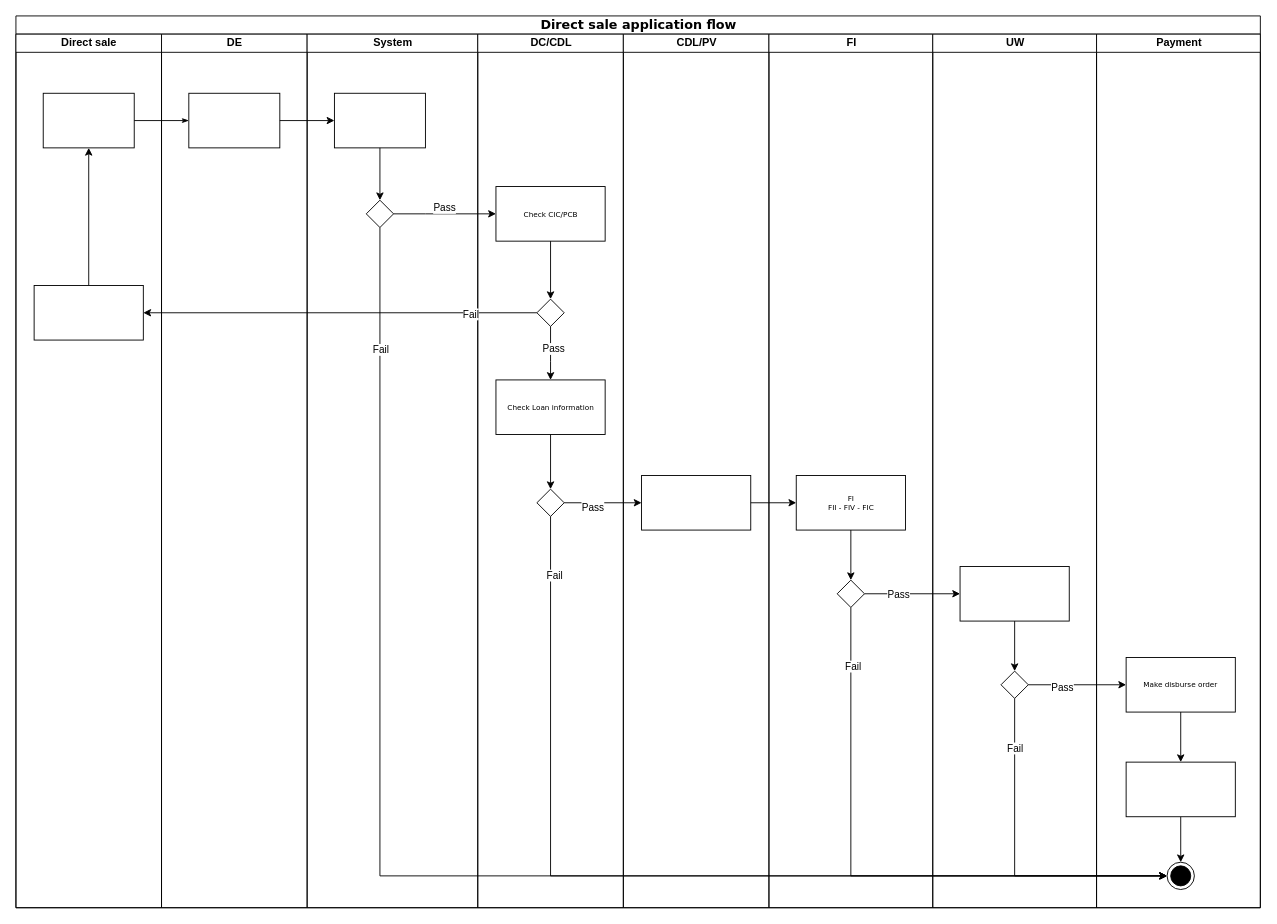
Some shapes in this 1277 by 924 pixel diagram are drawn without their labels. The shapes that lost their labels are listed below. From the top down, each one's centre as x and y in pixels, then its label:
At pixel 88 120: "Contact customer Get ACCA form".
At pixel 234 120: "Entry data".
At pixel 379 120: "Policy execution".
At pixel 88 312: "Return sale".
At pixel 696 502: "Phone KYC".
At pixel 1014 593: "Credit approval".
At pixel 1180 789: "Check disburse order".
